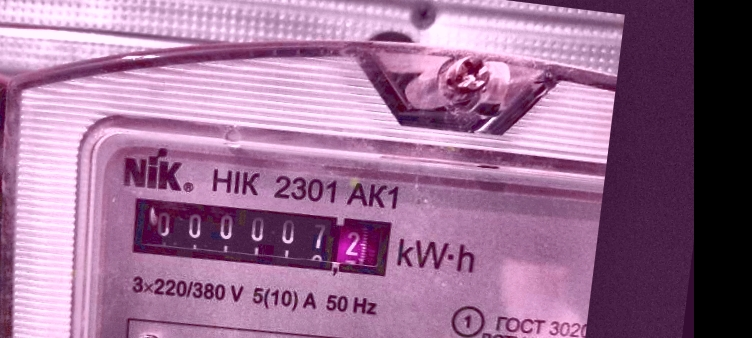0: (152, 208, 172, 237), (246, 214, 266, 243), (215, 211, 234, 241), (184, 210, 203, 239), (278, 217, 296, 246)
2: (342, 230, 361, 257)
7: (309, 219, 327, 251)
screen: (116, 183, 403, 289)
